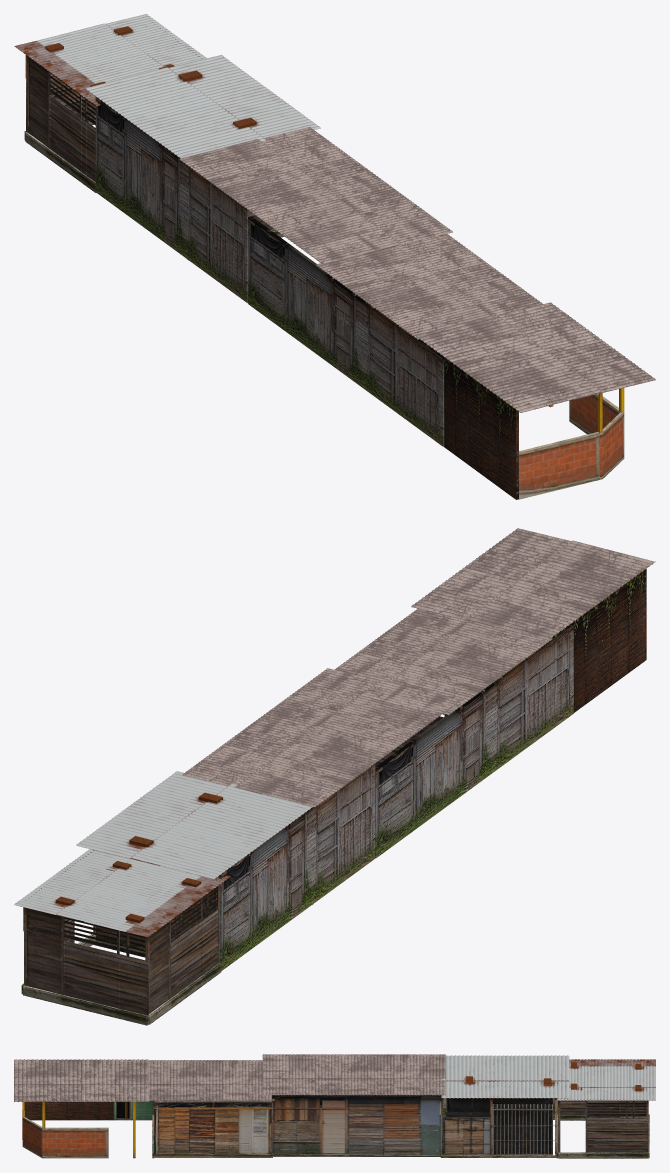
Rendered from casa_izquierda_18-21.fbx.
The picture shows the model from 3 angles, top to bottom: view 1: azimuth 30°, elevation 25°; view 2: azimuth 150°, elevation 25°; view 3: azimuth 270°, elevation 25°; orthographic projection. The views are drawn at different scales.
Parts seen in each view (by area): view 1: Techo 17.002, casa_derecho_19-21.002, casa_derecho_19-21.001, Techo 17.004, Techo 18B, Techo 17.003, Techo 18A, casa_derecho_21, casa_derecho_21B.001, casa_derecho_18A.004; view 2: Techo 17.002, casa_derecho_19-21.002, casa_derecho_19-21.001, Techo 17.004, Techo 18B, Techo 17.003, casa_derecho_18A.002, Techo 18A, casa_derecho_21, casa_derecho_18A.004, casa_derecho_18A.003; view 3: casa_derecha_19.001, Techo 17.002, casa_derecho_18B.001, casa_derecha_20, Techo 17.004, Techo 18B, Techo 17.003, casa_derecho_18A.001, Techo 18A, casa_derecho_21B.001, casa_derecho_21, casa_derecho_18A.004 (+1 smaller).
Boxes of the visible parts, x1,y1,x2,y2 form: Techo 17.002: (178,127,452,264); casa_derecho_19-21.002: (248,216,443,446); casa_derecho_19-21.001: (95,96,250,303); Techo 17.004: (415,302,655,412); Techo 18B: (84,55,320,158); Techo 17.003: (315,234,542,339); Techo 18A: (14,14,206,106); casa_derecho_21: (413,336,518,499); casa_derecho_21B.001: (519,388,624,499); casa_derecho_18A.004: (25,56,96,192); Techo 17.002: (182,668,460,807); casa_derecho_19-21.002: (375,625,573,858); casa_derecho_19-21.001: (218,764,375,970); Techo 17.004: (411,528,655,640); Techo 18B: (76,771,312,879); Techo 17.003: (335,608,552,714); casa_derecho_18A.002: (23,907,148,1025); Techo 18A: (14,849,230,937); casa_derecho_21: (541,569,646,712); casa_derecho_18A.004: (148,885,221,1024); casa_derecho_18A.003: (96,888,219,963); casa_derecha_19.001: (272,1095,440,1156); Techo 17.002: (262,1054,445,1095); casa_derecho_18B.001: (441,1095,557,1157); casa_derecha_20: (154,1101,271,1157); Techo 17.004: (14,1059,148,1101); Techo 18B: (441,1055,569,1098); Techo 17.003: (149,1060,274,1100); casa_derecho_18A.001: (558,1099,648,1158); Techo 18A: (557,1059,655,1100); casa_derecho_21B.001: (22,1101,135,1158); casa_derecho_21: (24,1100,153,1120); casa_derecho_18A.004: (557,1101,646,1120).
Bounding box in the file's own units: 509 × 360 × 3183.
